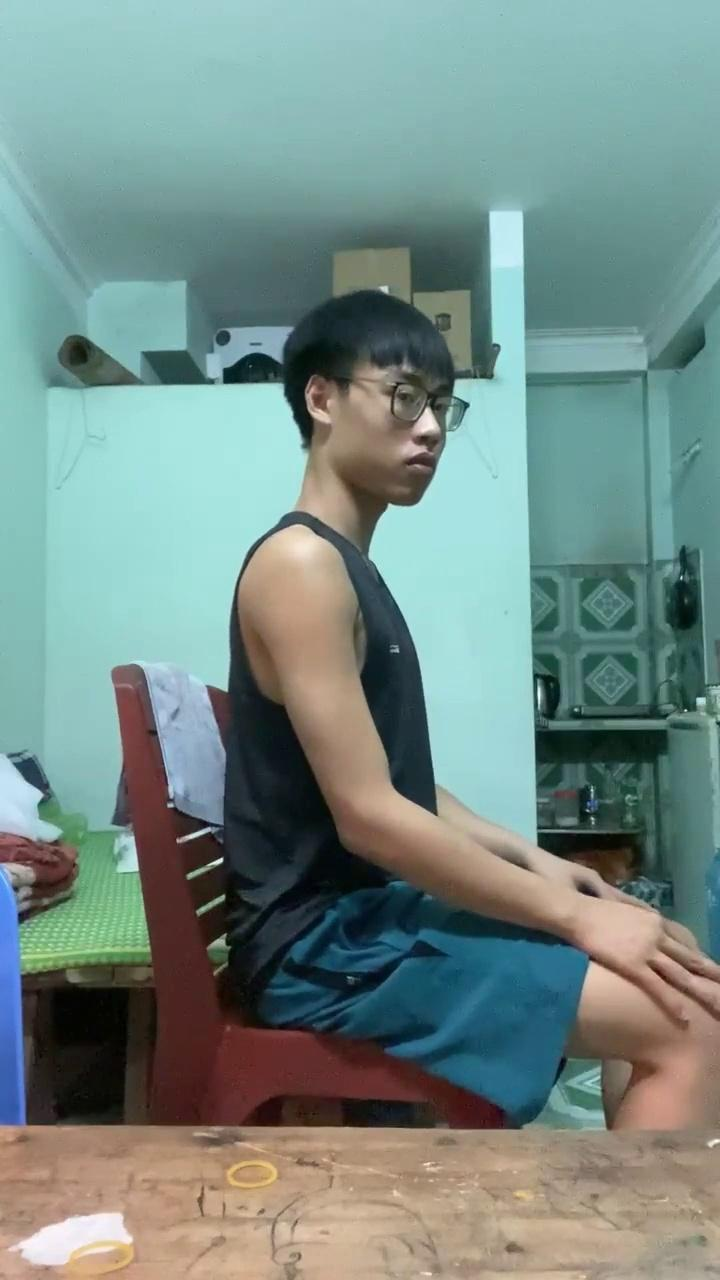GoodPosture: (224, 289, 719, 1130)
